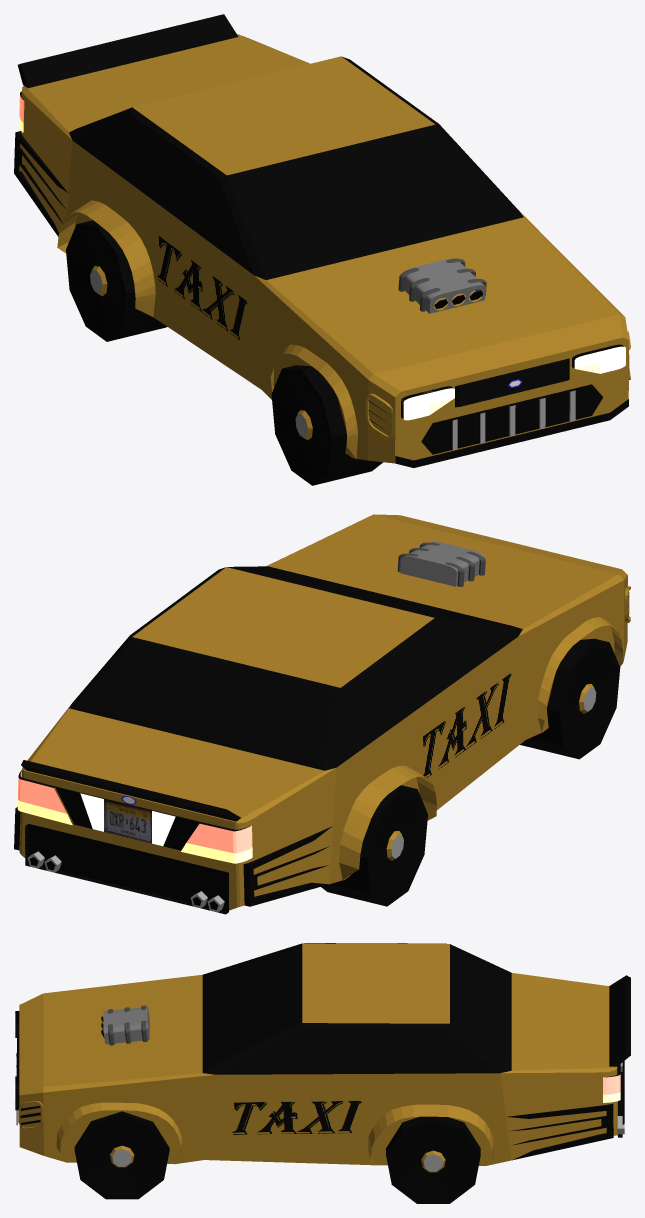
The model's file is Taxi .glb.
3 renders of one model, top to bottom at view 1: azimuth 30°, elevation 25°; view 2: azimuth 150°, elevation 25°; view 3: azimuth 270°, elevation 25°, orthographic. The views are drawn at different scales.
Parts seen in each view (by area): view 1: Taxi body; view 2: Taxi body; view 3: Taxi body.
Part boxes in pixels (box(x1,y1,x2,y2)): Taxi body: box(14, 14, 630, 485); Taxi body: box(14, 514, 630, 914); Taxi body: box(14, 943, 630, 1203).
Size of the model in its own units: 2.65 by 1.75 by 5.98.
Materials: 16 (2 with a texture image).
